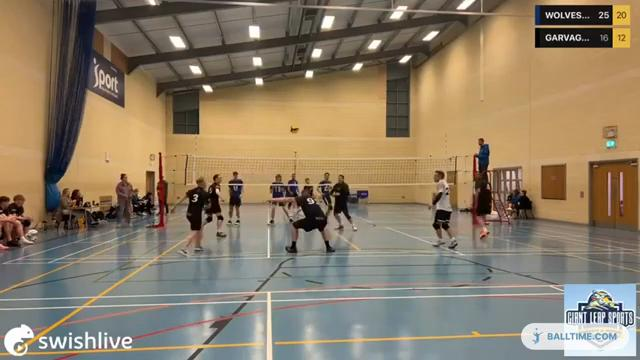ricezione: (264, 189, 334, 255)
